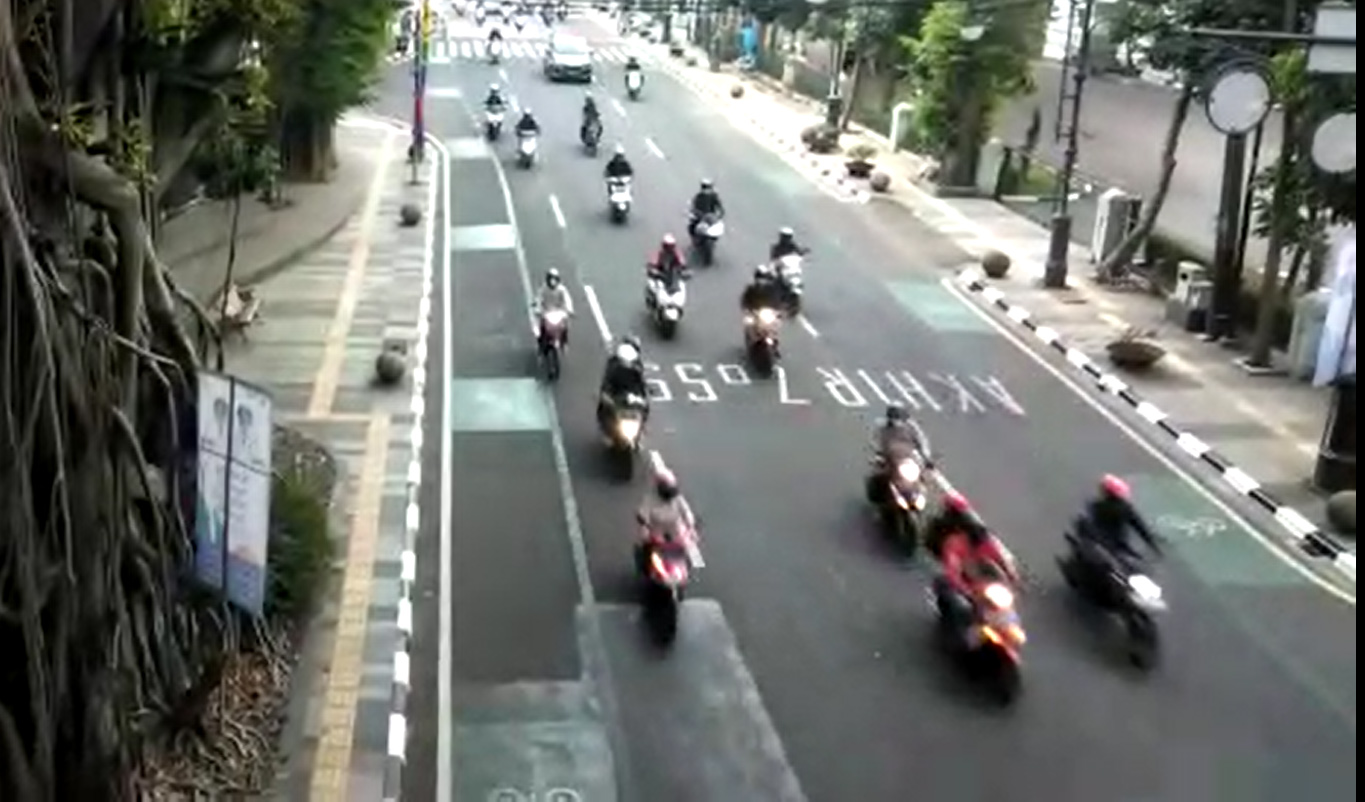motor: (907, 475, 1050, 728), (1046, 456, 1188, 687), (617, 458, 717, 667), (848, 385, 960, 569), (584, 326, 663, 490), (517, 257, 591, 392), (731, 260, 798, 386), (633, 224, 700, 345), (761, 222, 817, 325), (679, 173, 733, 274), (599, 142, 641, 229), (569, 86, 611, 165), (471, 80, 518, 150), (504, 105, 550, 176)
